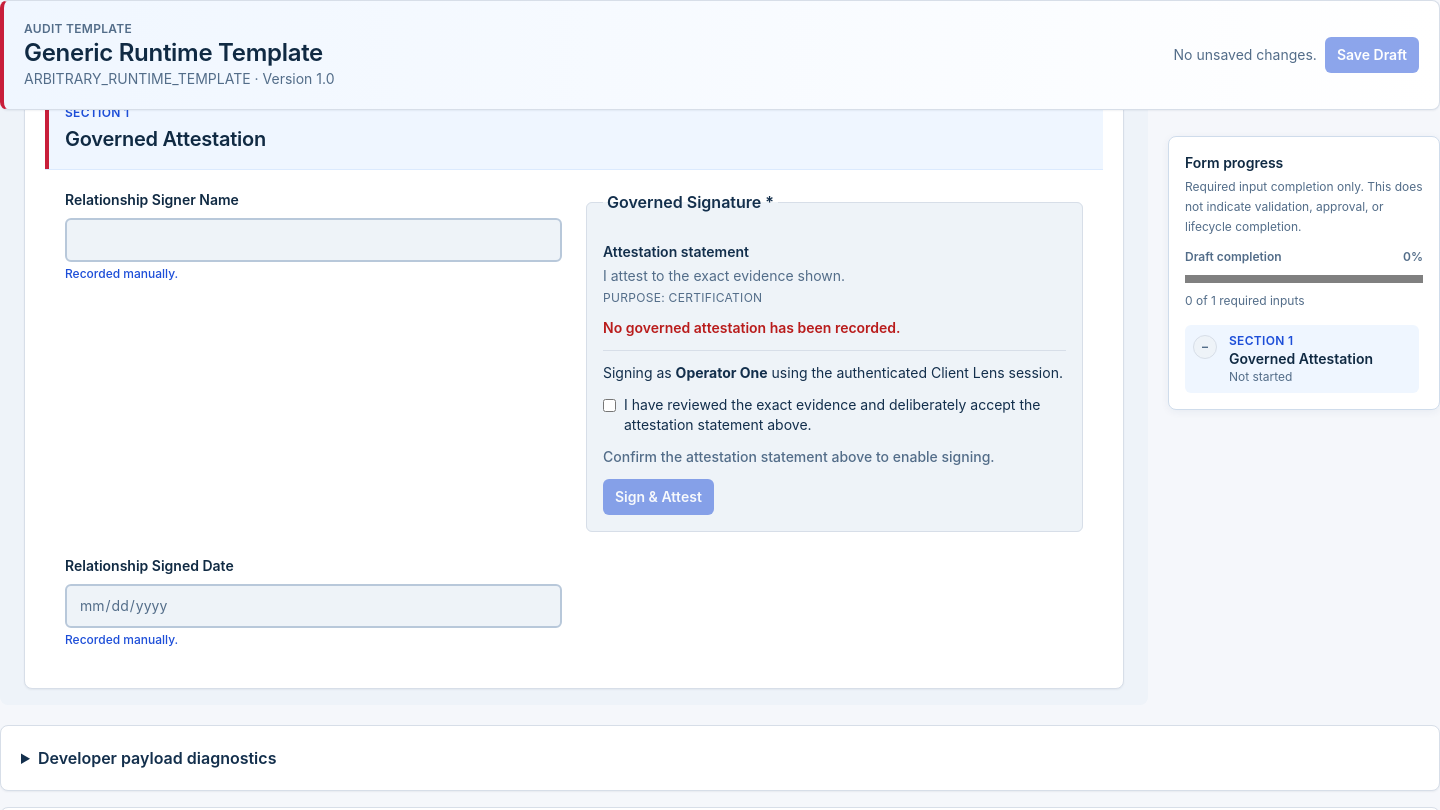
Test case: Generic OETS renderer › G.2.0 keeps relationship-rejected signing unprojected and safely retries the same command
(page scrolled)
expect the field labelled "Relationship Signer Name" is empty: met, box [65,218,562,262]
expect the date field labelled "Relationship Signed Date" is empty: met, box [65,584,562,628]
Click the checkbox named "deliberately accept the attestation statement".
click(610, 406)  # box [603,399,616,412]
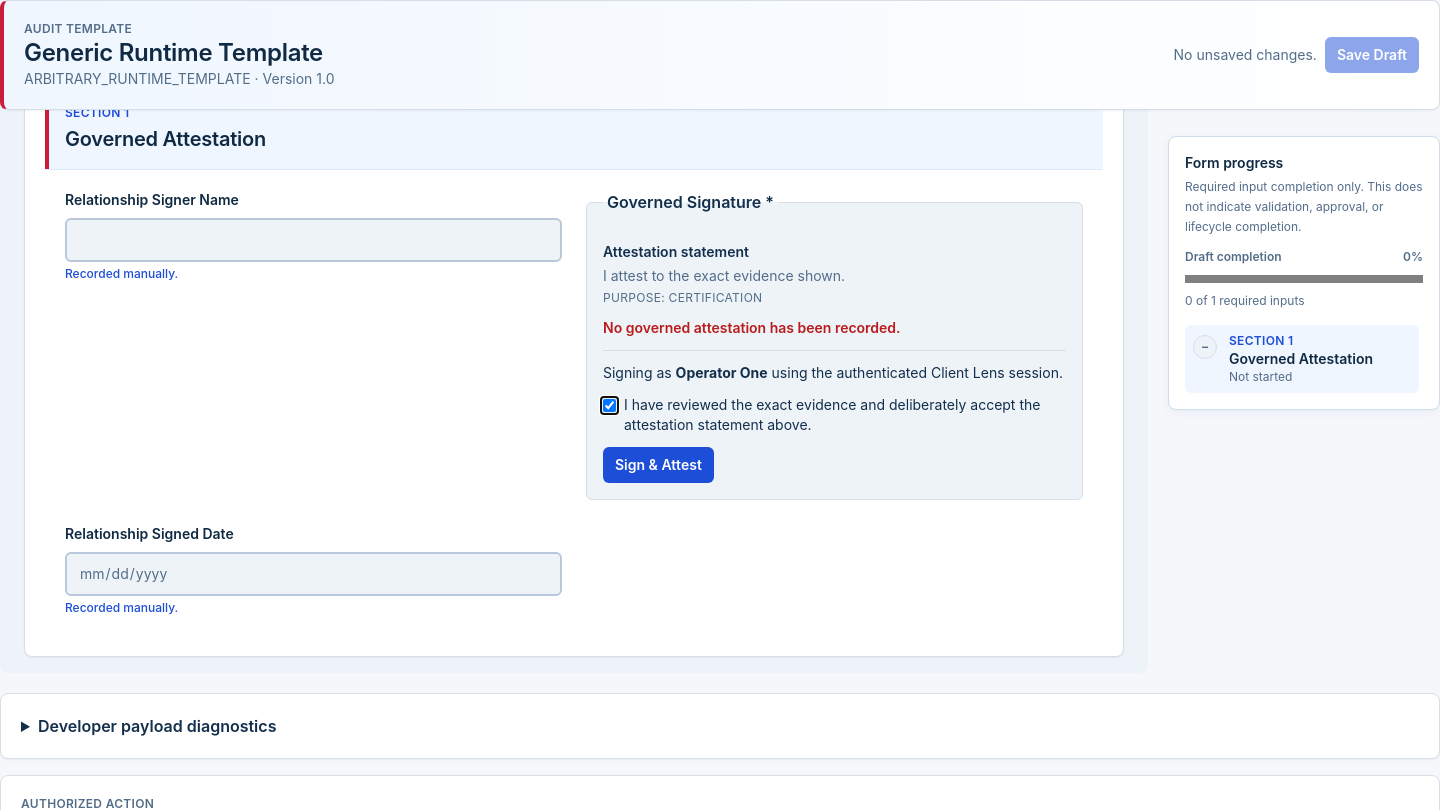
Click the button "Sign & Attest".
click(658, 465)  # box [603,447,714,483]
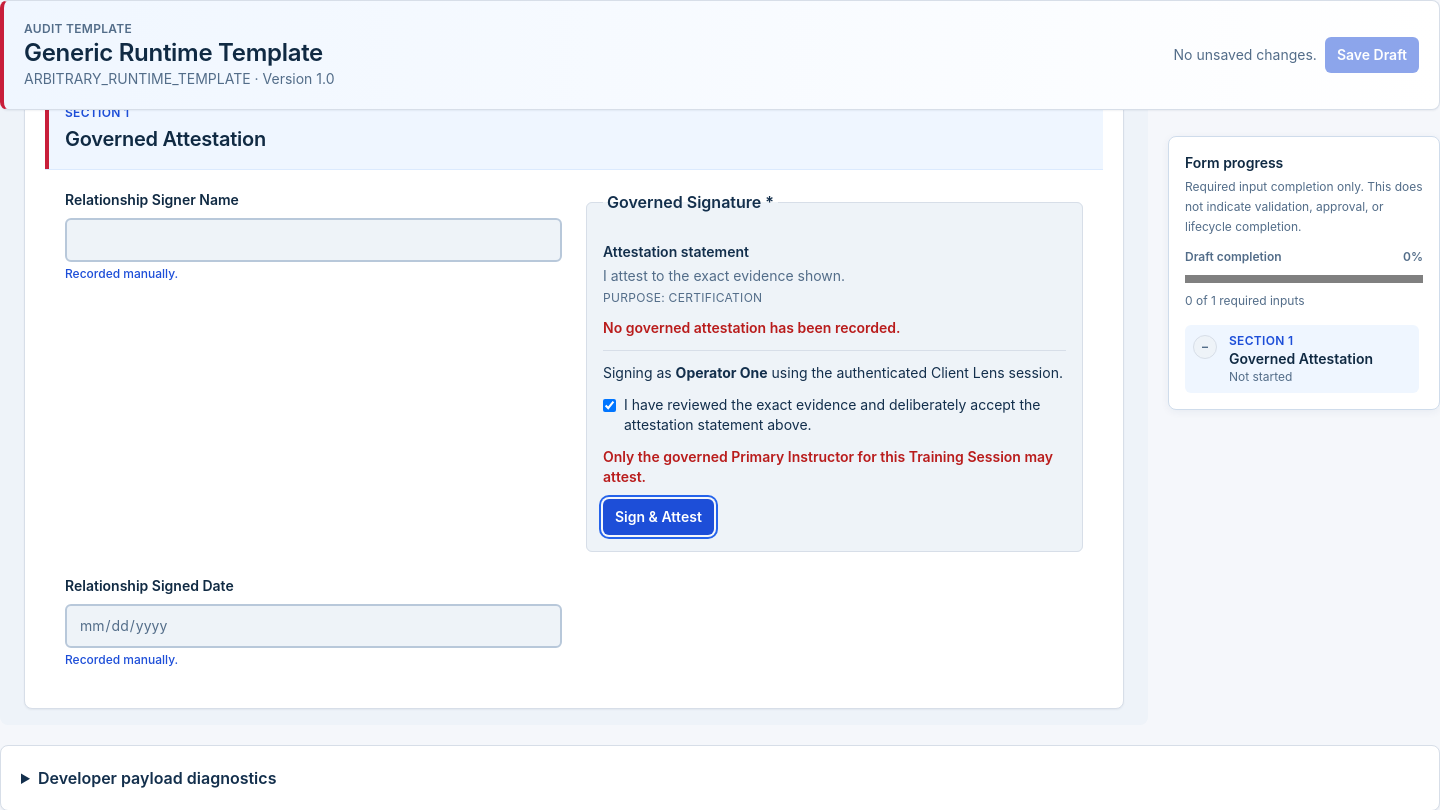
expect the text "Current attestation" is not shown: met
expect the message reads "Only the governed Primary Instructor for this Training Session may attest.": met, box [603,448,1053,485]
Click the button "Sign & Attest".
click(658, 517)  # box [603,499,714,535]
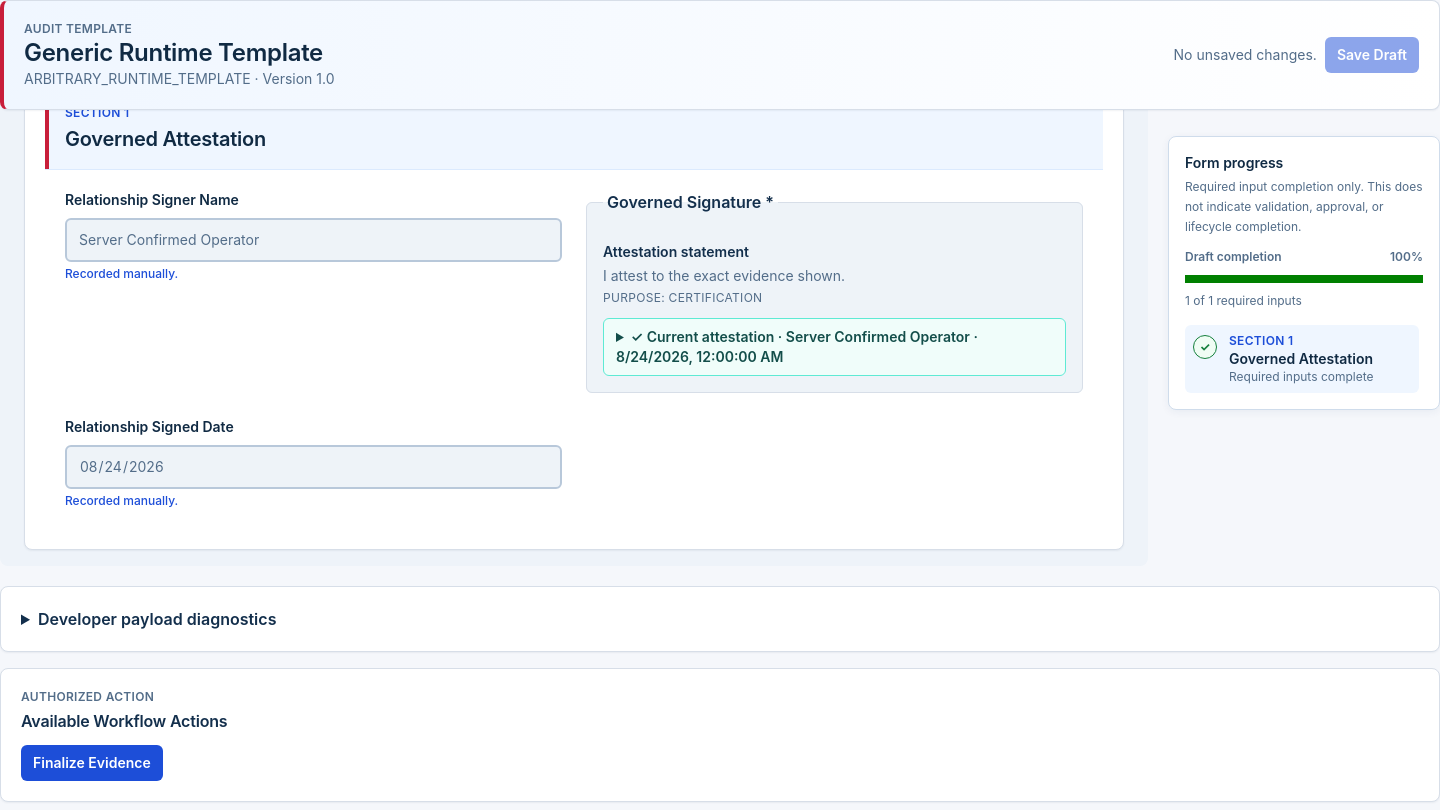
expect the text "Current attestation" is shown: met, box [647,328,774,345]
expect the field labelled "Relationship Signer Name" holds "Server Confirmed Operator": met, box [65,218,562,262]
expect the date field labelled "Relationship Signed Date" holds "2026-08-24": met, box [65,445,562,489]
